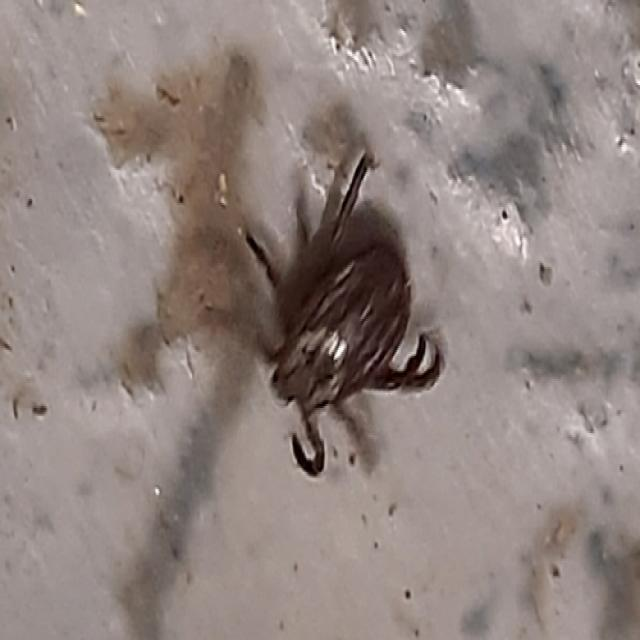Dermacentor Reticulatus-F: (246, 141, 447, 476)
